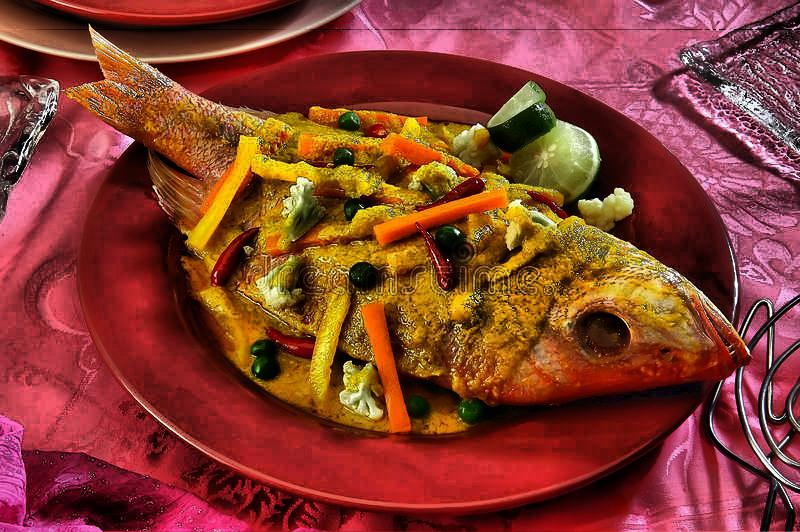fish: (94, 27, 749, 466)
